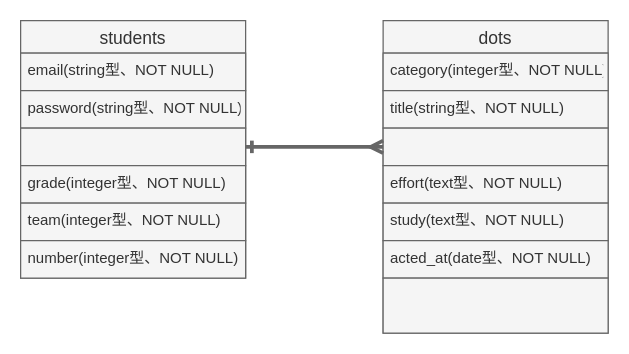
This 629x354 diagram has some shape labels left out. Each missing label, with the centre of its shape:
introduction(text型、NOT NULL): (495,146)
name(string型、NOT NULL): (132,146)
student(references型、 NOT NULL, foreign_key: true): (495,305)
